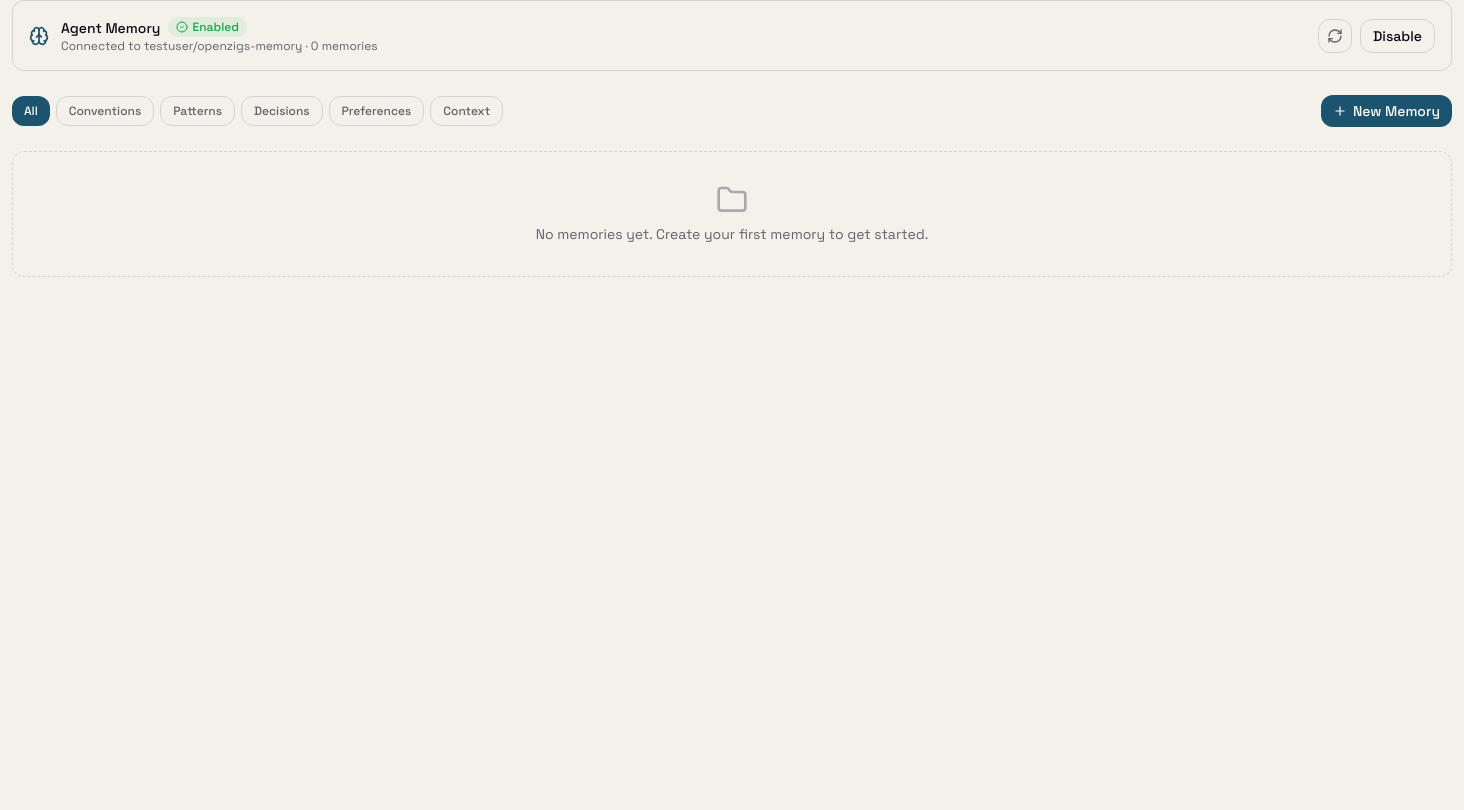
Scenario: MemoryPanel › shows create form when New Memory button is clicked
Click the button "New Memory". click: click(1386, 111)
box: x1=1321 y1=95 x2=1452 y2=127
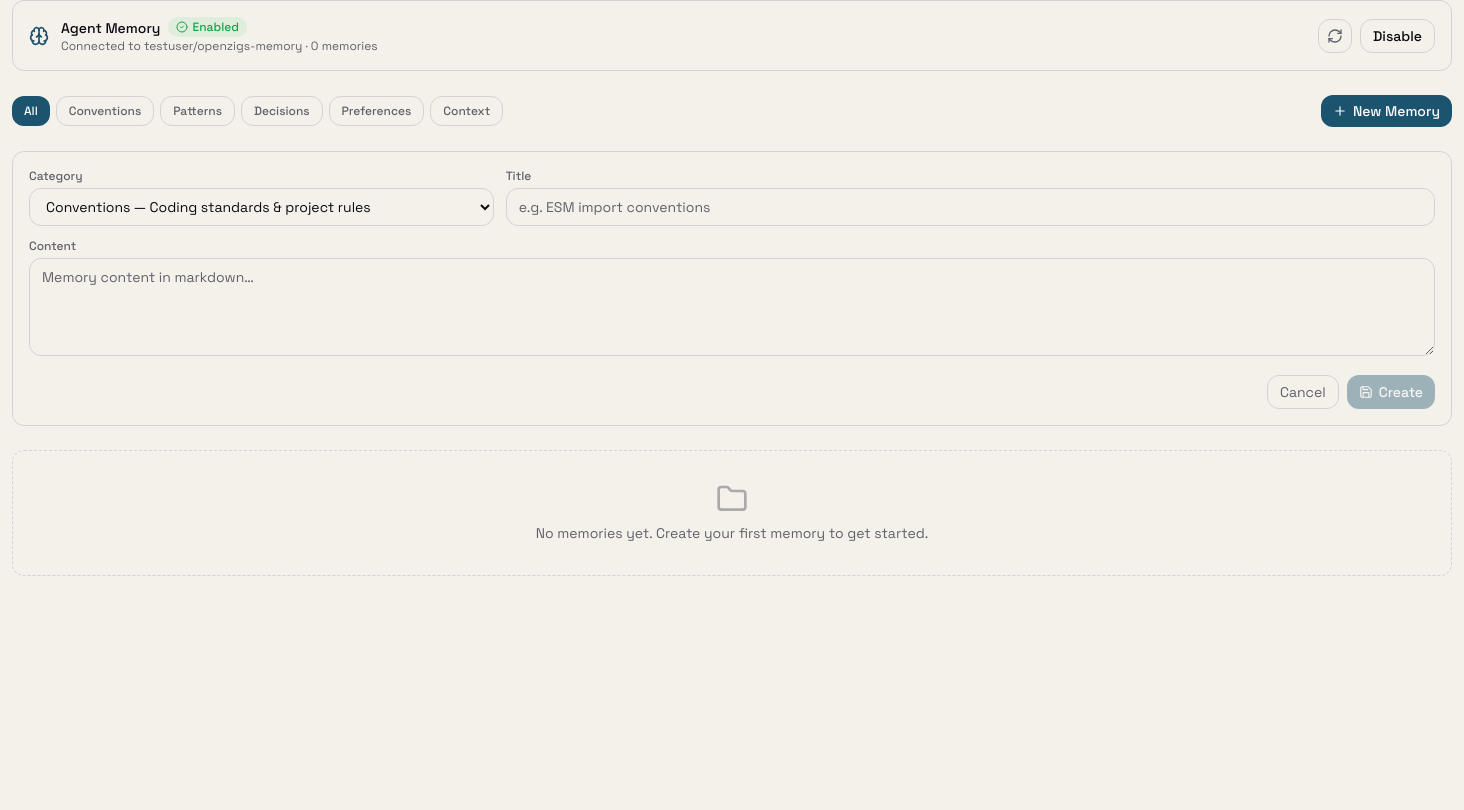
Check: the text "Category" is shown, box x1=29 y1=168 x2=83 y2=184
Check: the text "Title" is shown, box x1=506 y1=168 x2=531 y2=184
Check: the text "Content" is shown, box x1=29 y1=238 x2=76 y2=254
